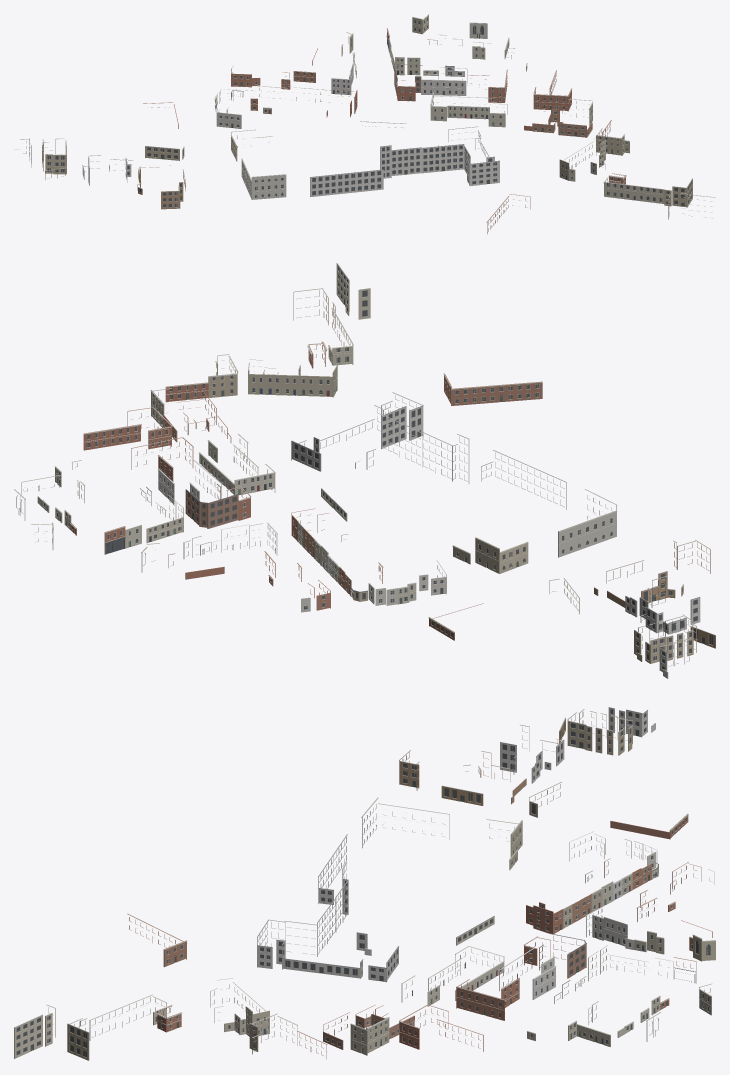
3 views of the same model, one above another, from view 1: azimuth 30°, elevation 25°; view 2: azimuth 150°, elevation 25°; view 3: azimuth 270°, elevation 25° (orthographic). The views are drawn at different scales.
Visible parts, largest first — view 1: f:way/147987669, f:way/146351826, f:way/639745815, f:way/136442240, f:way/192246622, f:way/146355866, f:way/146626442, f:way/175103922, f:way/130068004, f:way/151911586, f:way/136442241, f:way/175103916 (+5 smaller); view 2: f:way/147987669, f:way/175103922, f:way/158932430, f:way/639745815, f:way/146626442, f:way/146351826, f:way/147987668, f:way/151911586, f:way/151911580, f:way/146351814, f:way/130068004, f:way/158932420 (+5 smaller); view 3: f:way/147987669, f:way/151911586, f:way/192246620, f:way/130068004, f:way/158932420, f:way/146351826, f:way/151911580, f:way/146355865, f:way/175103922, f:way/192246622, f:way/130068002, f:way/146626442 (+8 smaller).
Part boxes in pixels (box(x1,y1,x2,y2)): f:way/147987669: box(310, 126, 499, 196); f:way/146351826: box(430, 92, 507, 127); f:way/639745815: box(241, 158, 286, 199); f:way/136442240: box(603, 177, 664, 203); f:way/192246622: box(421, 67, 467, 95); f:way/146355866: box(532, 105, 592, 137); f:way/146626442: box(533, 70, 572, 111); f:way/175103922: box(559, 138, 605, 181); f:way/130068004: box(137, 165, 185, 209); f:way/151911586: box(42, 138, 66, 174); f:way/136442241: box(664, 178, 692, 207); f:way/175103916: box(596, 128, 629, 155); f:way/147987669: box(291, 392, 566, 509); f:way/175103922: box(248, 359, 337, 397); f:way/158932430: box(443, 373, 542, 405); f:way/639745815: box(558, 489, 617, 557); f:way/146626442: box(83, 407, 172, 450); f:way/146351826: box(199, 433, 275, 494); f:way/147987668: box(452, 537, 528, 573); f:way/151911586: box(634, 614, 696, 663); f:way/151911580: box(625, 576, 700, 634); f:way/146351814: box(185, 484, 238, 528); f:way/130068004: box(594, 540, 710, 607); f:way/158932420: box(336, 263, 370, 319); f:way/147987669: box(257, 834, 398, 982); f:way/151911586: box(567, 709, 632, 755); f:way/192246620: box(456, 977, 519, 1020); f:way/130068004: box(399, 750, 526, 805); f:way/158932420: box(14, 1004, 55, 1058); f:way/146351826: box(401, 946, 504, 1006); f:way/151911580: box(500, 725, 564, 783); f:way/146355865: box(350, 1017, 389, 1055); f:way/175103922: box(210, 978, 269, 1036); f:way/192246622: box(499, 948, 556, 999); f:way/130068002: box(608, 707, 655, 737); f:way/146626442: box(399, 1004, 483, 1051).
Bounding box in the file's own units: 257 × 19.14 × 235.
